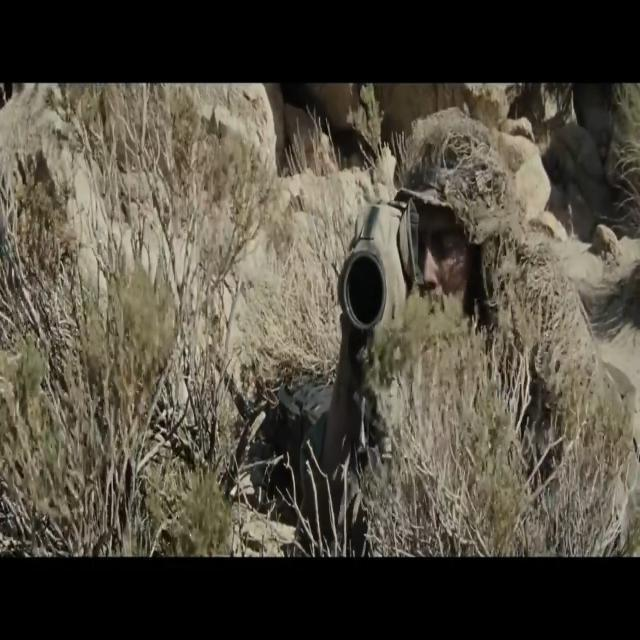MIL_Pax: (402, 109, 514, 298)
